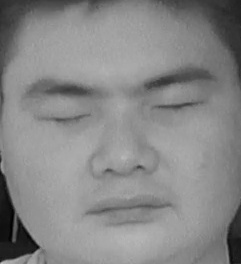blink: (39, 101, 94, 137), (156, 90, 206, 124)
mouth: (79, 183, 172, 234)
